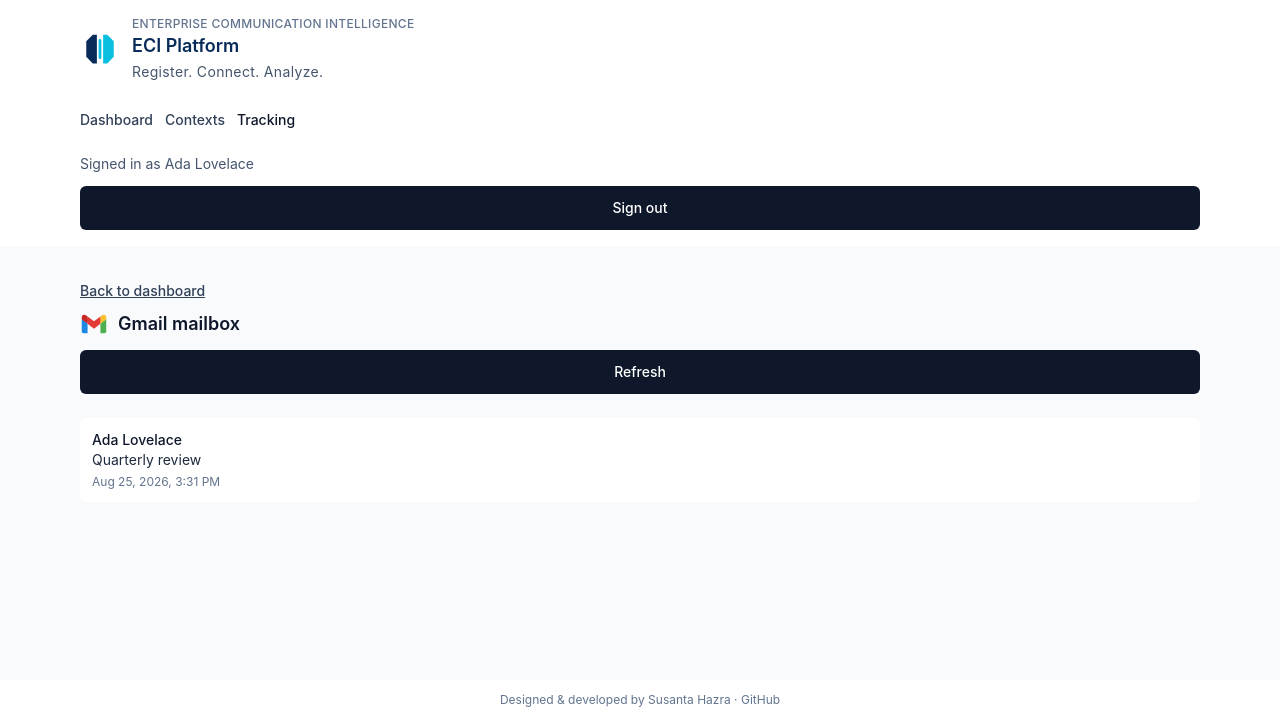
analysis result › renders summary, priority, category, action items, and a read-only draft suggestion
The width and height of the screenshot is (1280, 720).
Click the button "Ada Lovelace Quarterly review Aug 25, 2026, 3:31 PM" at (137, 440), box 80,418 -> 1200,502
(page scrolled)
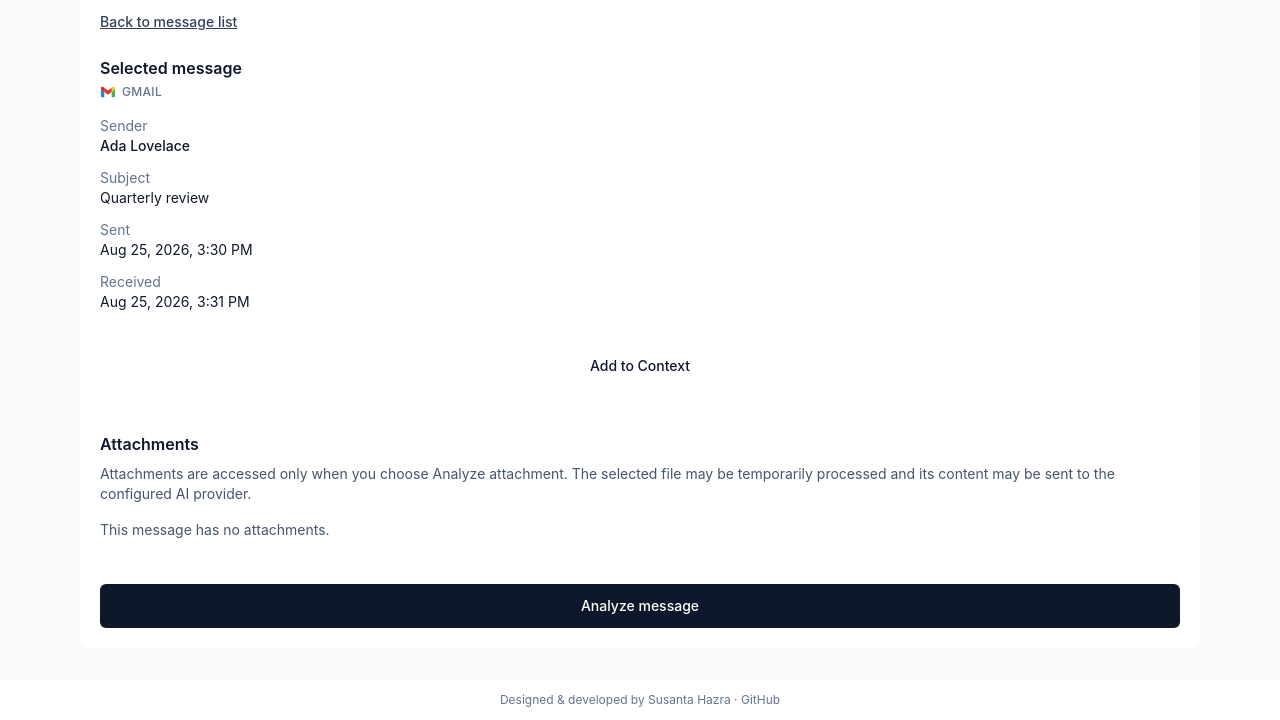
Click the button "Analyze message" at (640, 606), box 100,584 -> 1180,628
(page scrolled)
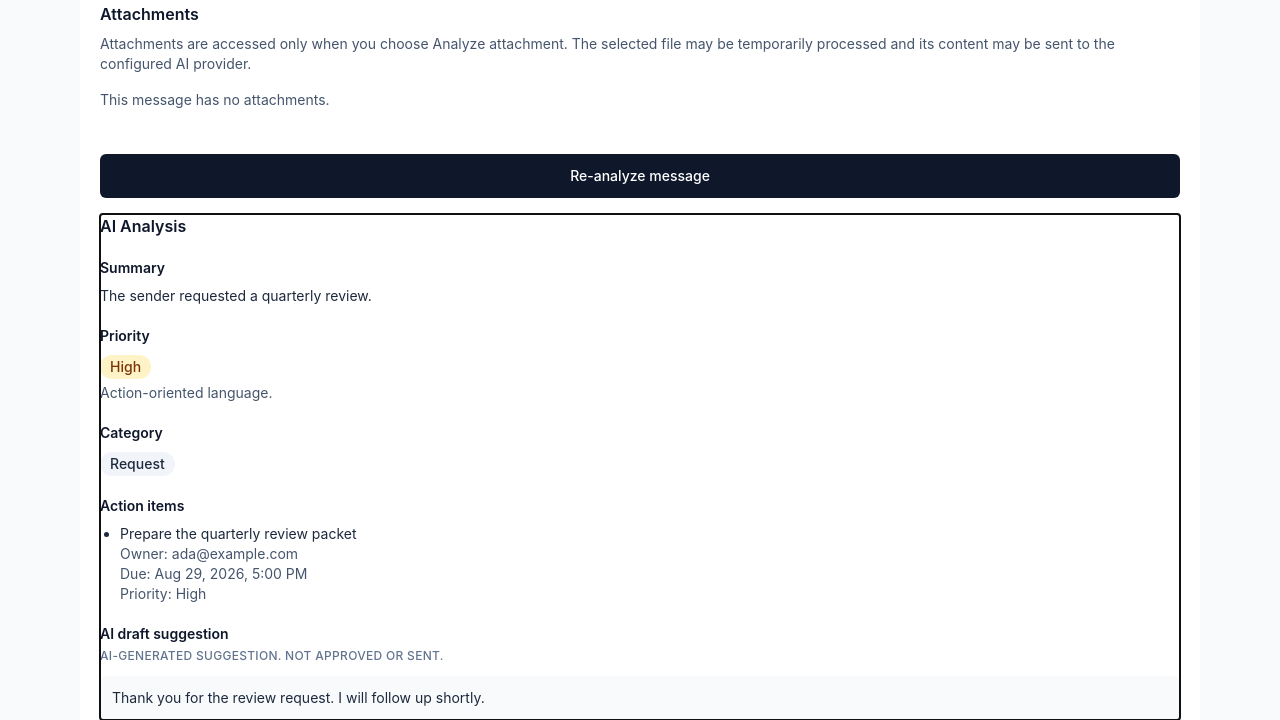
Expected: the text "The sender requested a quarterly review." is shown, 100,287 -> 372,304
Expected: the text "High" is shown, 100,355 -> 151,379
Expected: the text "Action-oriented language." is shown, 100,384 -> 272,401
